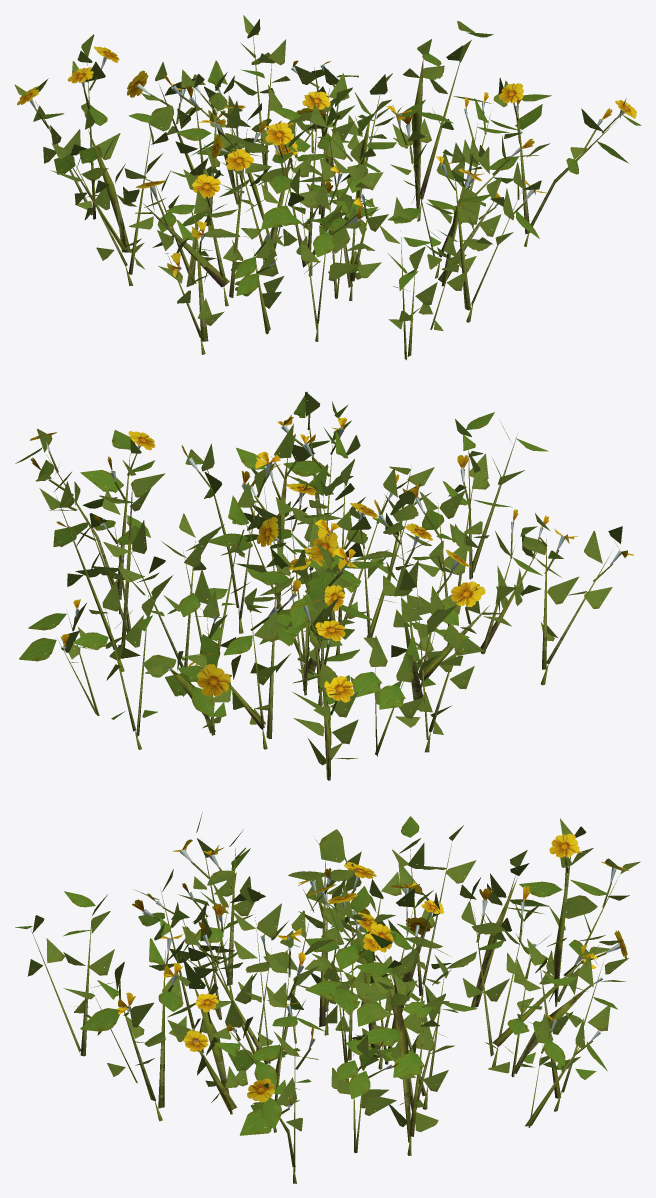
Rendered from cargo_shrub_b.glb.
The picture shows the model from 3 angles, top to bottom: view 1: azimuth 30°, elevation 25°; view 2: azimuth 150°, elevation 25°; view 3: azimuth 270°, elevation 25°; orthographic projection. The views are drawn at different scales.
Visible parts, largest first — view 1: KB3D_ENC_PropFlowers_B; view 2: KB3D_ENC_PropFlowers_B; view 3: KB3D_ENC_PropFlowers_B.
Part boxes in pixels (bbox=[...]): KB3D_ENC_PropFlowers_B: bbox=[14, 15, 641, 360]; KB3D_ENC_PropFlowers_B: bbox=[15, 391, 633, 780]; KB3D_ENC_PropFlowers_B: bbox=[15, 812, 640, 1183].
Bounding box in the file's own units: 1.37 × 0.5086 × 1.34.
Materials: 3 (3 with a texture image).
